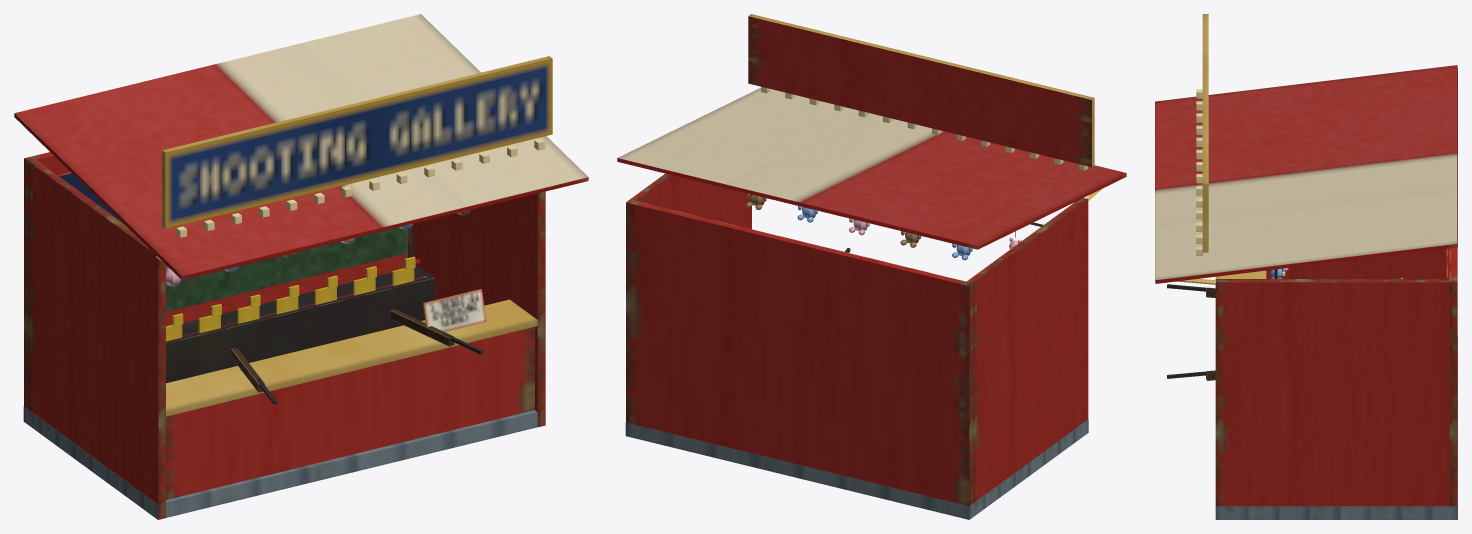
Rendered from booth_shooting.obj.
The picture shows the model from 3 angles, left to right: view 1: azimuth 30°, elevation 25°; view 2: azimuth 150°, elevation 25°; view 3: azimuth 270°, elevation 25°; orthographic projection. The views are drawn at different scales.
Visible parts, largest first — view 1: booth_shooting_roof, booth_shooting_counter, booth_shooting_side_l, booth_shooting_stock, booth_shooting_side_r, booth_shooting, booth_shooting_back, booth_shooting_ducks, booth_shooting_bulbs; view 2: booth_shooting_back, booth_shooting_roof, booth_shooting_side_l, booth_shooting, booth_shooting_side_r, booth_shooting_prizes, booth_shooting_bulbs; view 3: booth_shooting_roof, booth_shooting_side_r, booth_shooting, booth_shooting_side_l, booth_shooting_back, booth_shooting_bulbs, booth_shooting_stock.
Part boxes in pixels (box(x1,y1,x2,y2)): booth_shooting_roof: box(14, 14, 588, 279); booth_shooting_counter: box(166, 289, 537, 499); booth_shooting_side_l: box(28, 160, 165, 519); booth_shooting_stock: box(58, 172, 483, 404); booth_shooting_side_r: box(408, 191, 545, 427); booth_shooting: box(23, 406, 537, 519); booth_shooting_back: box(24, 152, 407, 409); booth_shooting_ducks: box(166, 256, 427, 341); booth_shooting_bulbs: box(176, 139, 545, 237); booth_shooting_back: box(626, 199, 973, 506); booth_shooting_roof: box(617, 14, 1126, 249); booth_shooting_side_l: box(967, 198, 1088, 502); booth_shooting: box(625, 419, 1088, 519); booth_shooting_side_r: box(630, 173, 751, 229); booth_shooting_prizes: box(746, 193, 1043, 260); booth_shooting_bulbs: box(761, 86, 1087, 170); booth_shooting_roof: box(1155, 14, 1457, 284); booth_shooting_side_r: box(1215, 279, 1449, 506); booth_shooting: box(1215, 336, 1457, 519); booth_shooting_side_l: box(1266, 248, 1449, 278); booth_shooting_back: box(1449, 247, 1457, 506); booth_shooting_bulbs: box(1196, 89, 1203, 255); booth_shooting_stock: box(1167, 248, 1448, 380).
Bounding box in the file's own units: 4.2 × 3.67 × 3.01.
Materials: 1 (1 with a texture image).
